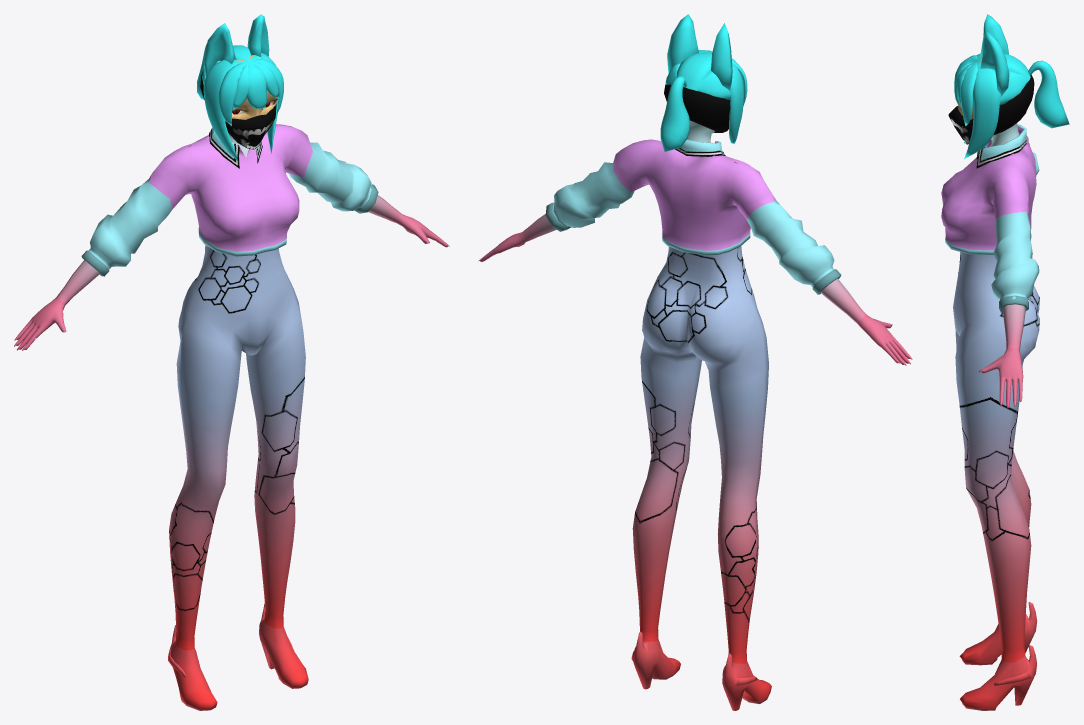
File: Char_Girl_02v01.fbx
3 renders of one model, left to right at view 1: azimuth 30°, elevation 25°; view 2: azimuth 150°, elevation 25°; view 3: azimuth 270°, elevation 25°, orthographic.
Parts seen in each view (by area): view 1: Cube.010; view 2: Cube.010; view 3: Cube.010.
Boxes of the visible parts, <box> form: Cube.010: <box>14,14,449,710</box>; Cube.010: <box>478,14,912,710</box>; Cube.010: <box>941,14,1069,710</box>.
Size of the model in its own units: 122 by 182 by 32.06.
